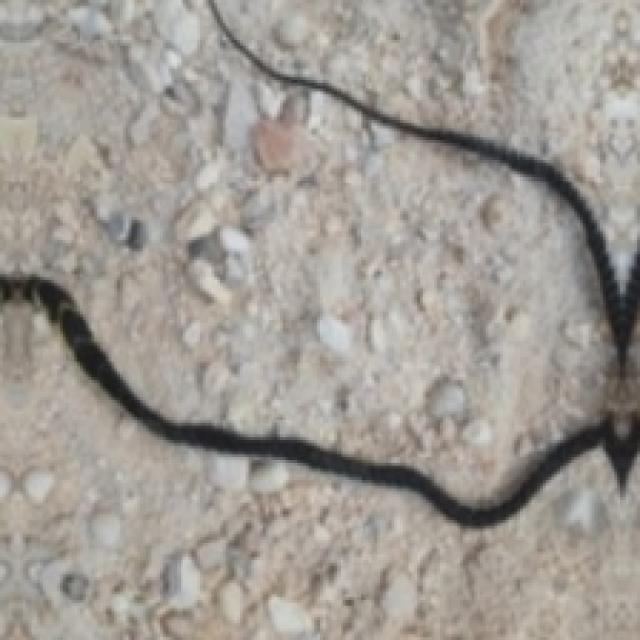king cobra: (0, 0, 637, 526)
